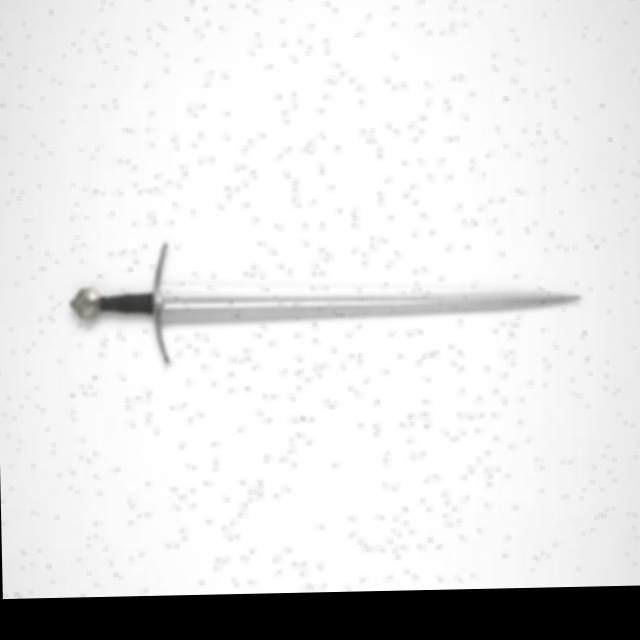Sharp-Object: (62, 272, 603, 341)
